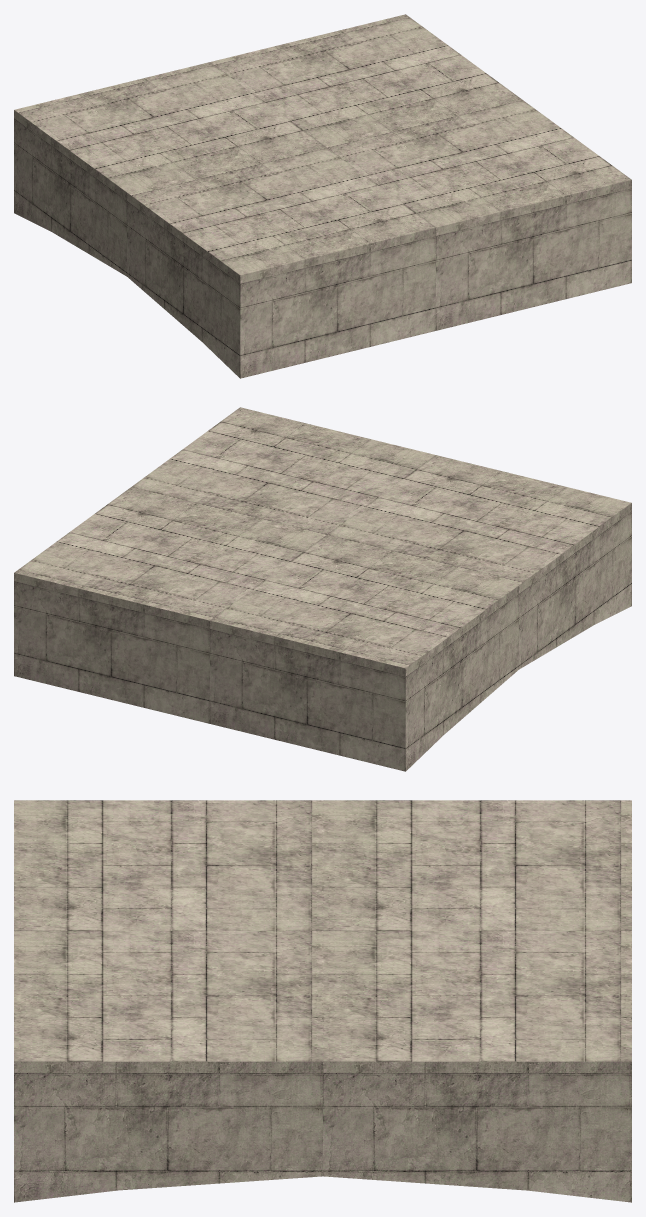
File: CrownMarbleCenter.dae
3 renders of one model, top to bottom at view 1: azimuth 30°, elevation 25°; view 2: azimuth 150°, elevation 25°; view 3: azimuth 270°, elevation 25°, orthographic. The views are drawn at different scales.
Parts seen in each view (by area): view 1: CrownMarbleCenter; view 2: CrownMarbleCenter; view 3: CrownMarbleCenter.
Part boxes in pixels (x1,y1,x2,y2): CrownMarbleCenter: (14, 14, 631, 378); CrownMarbleCenter: (14, 407, 631, 771); CrownMarbleCenter: (14, 800, 631, 1202).
Bounding box in the file's own units: 4 × 1.01 × 4.
1 material, 1 textured.
